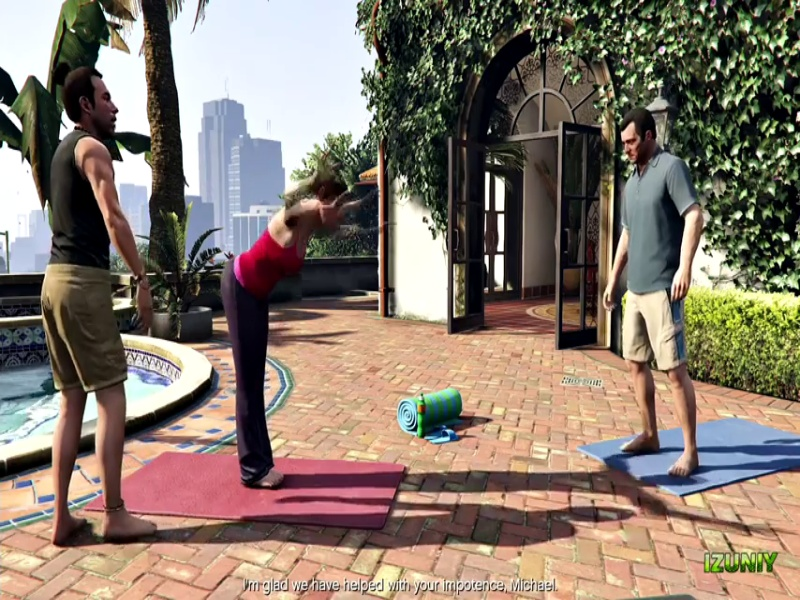human: (604, 103, 705, 482)
